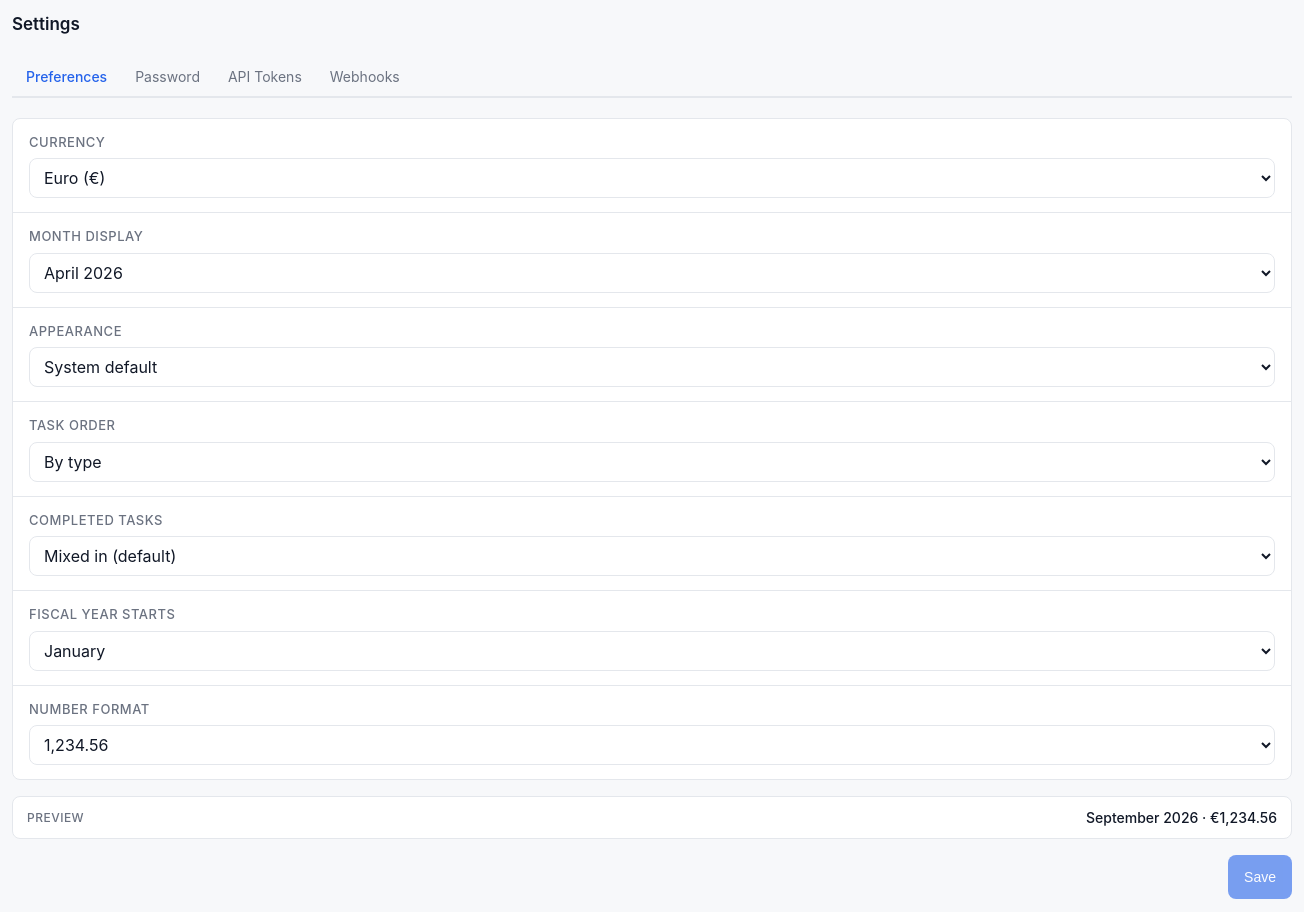
Test case: SettingsView main form › enables the Save button after a field is changed
The width and height of the screenshot is (1304, 912).
Select "US Dollar ($)" in the dropdown labelled "Currency" at (652, 178), box [29, 158, 1275, 198]
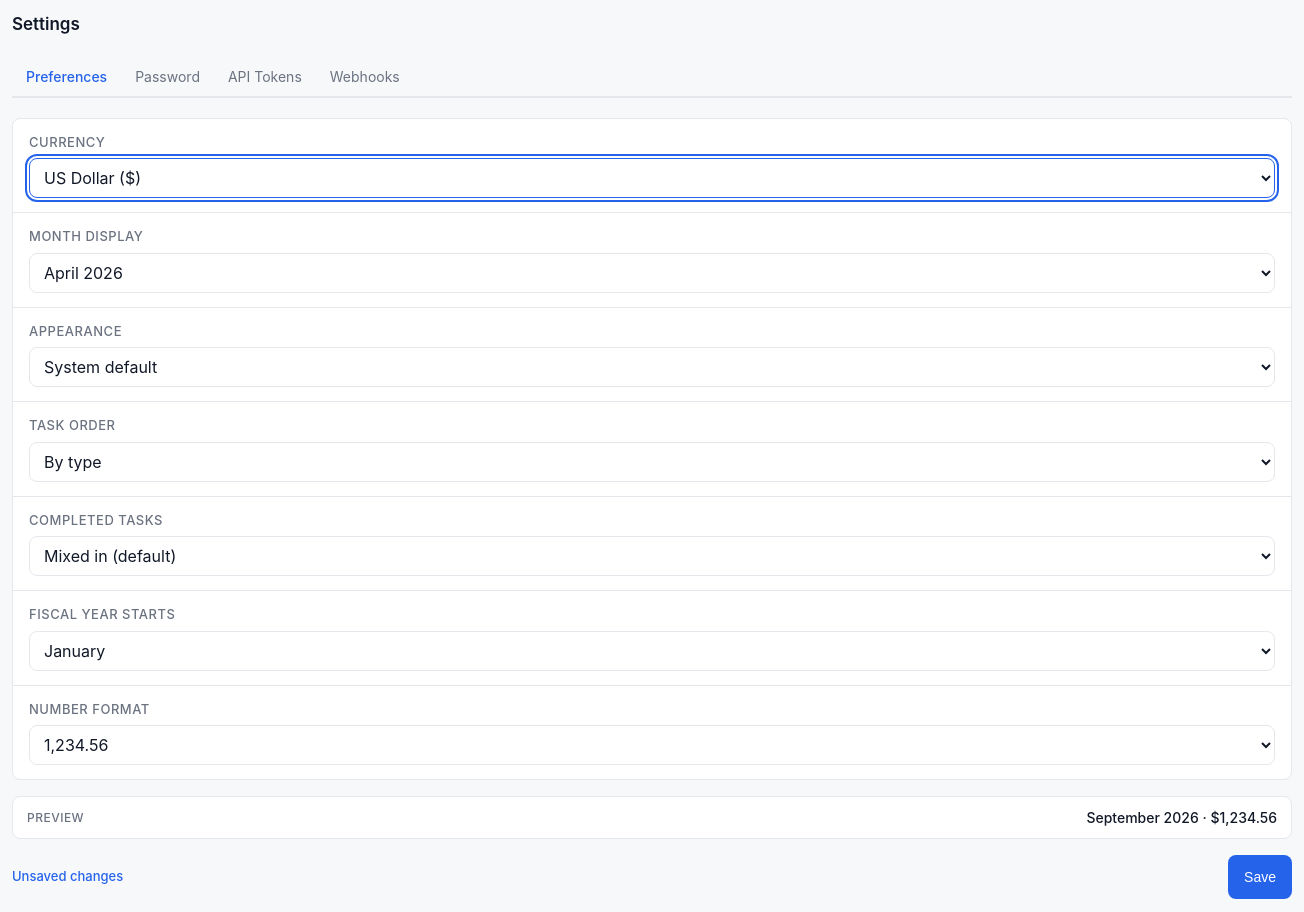
expect the button "Save" is enabled: met, box [1228, 855, 1292, 899]
